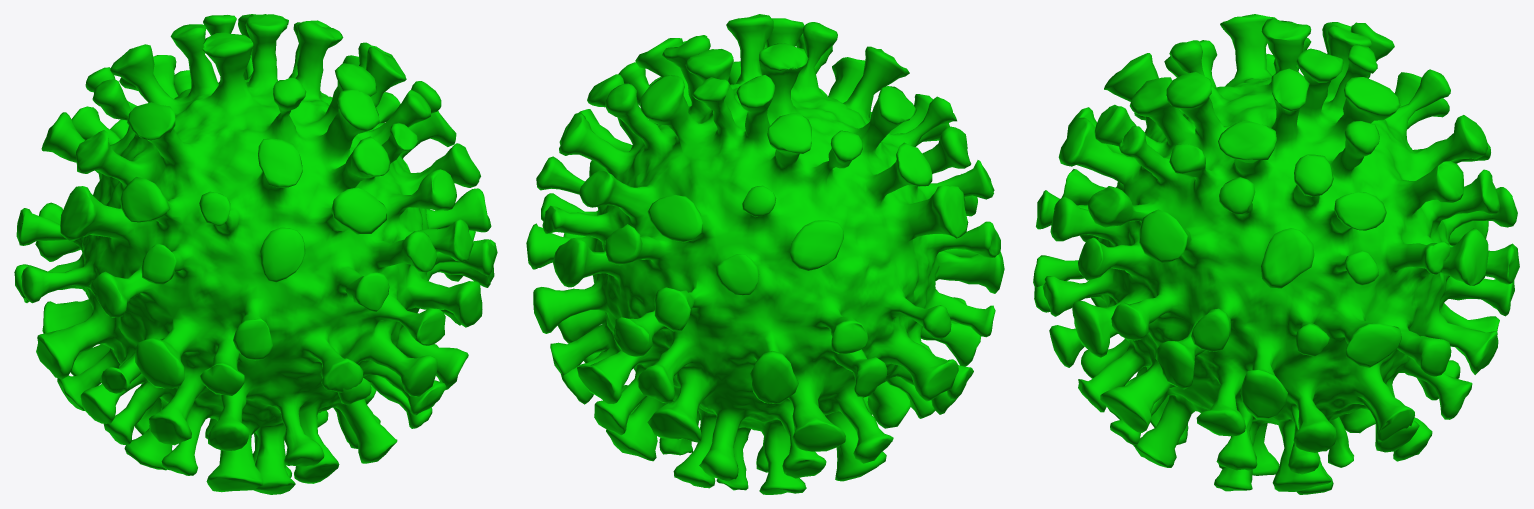
Rendered from Green.fbx.
3 views of the same model, side by side, from view 1: azimuth 30°, elevation 25°; view 2: azimuth 150°, elevation 25°; view 3: azimuth 270°, elevation 25° (orthographic).
Parts seen in each view (by area): view 1: Icosphere1; view 2: Icosphere1; view 3: Icosphere1.
Part boxes in pixels (x1,y1,x2,y2): Icosphere1: (14,14,497,494); Icosphere1: (526,14,1004,494); Icosphere1: (1033,14,1519,494).
Bounding box in the file's own units: 12.95 × 12.95 × 13.
